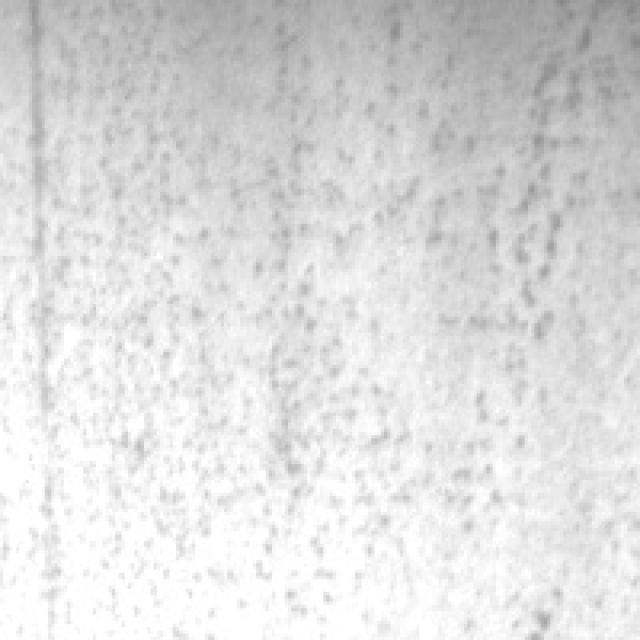pitted_surface: (0, 0, 621, 611)
